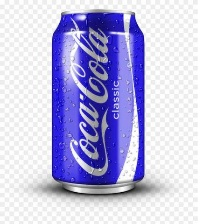can: (47, 7, 148, 197)
